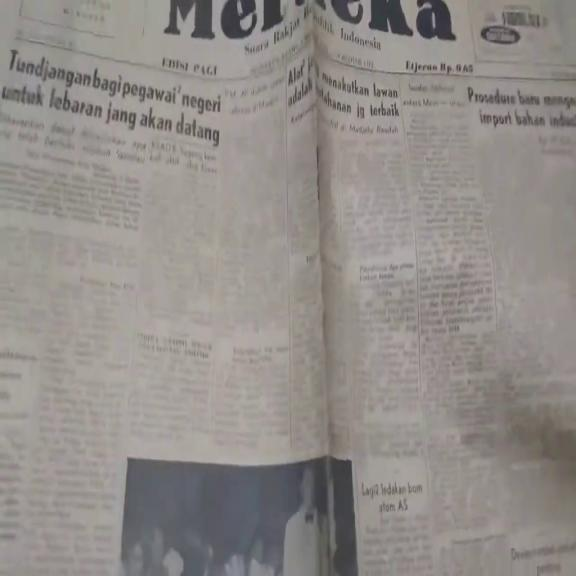Kertas: (0, 0, 322, 574), (313, 0, 574, 572), (8, 4, 570, 105), (0, 69, 146, 263)
